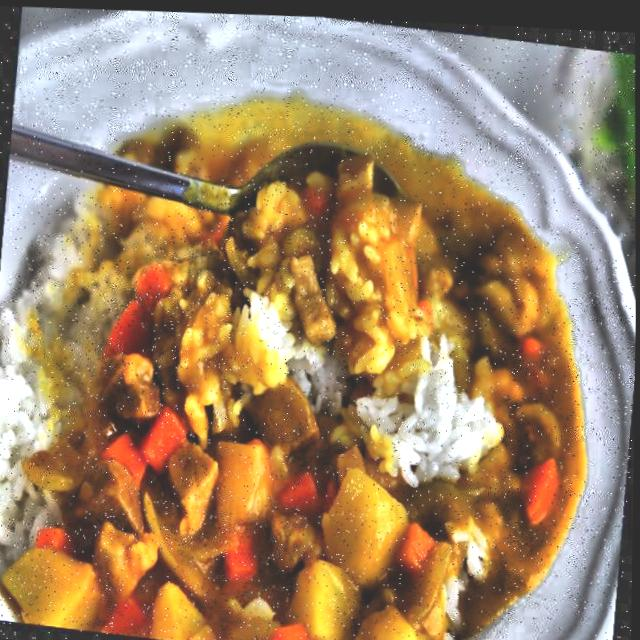Food: (34, 76, 539, 640)
